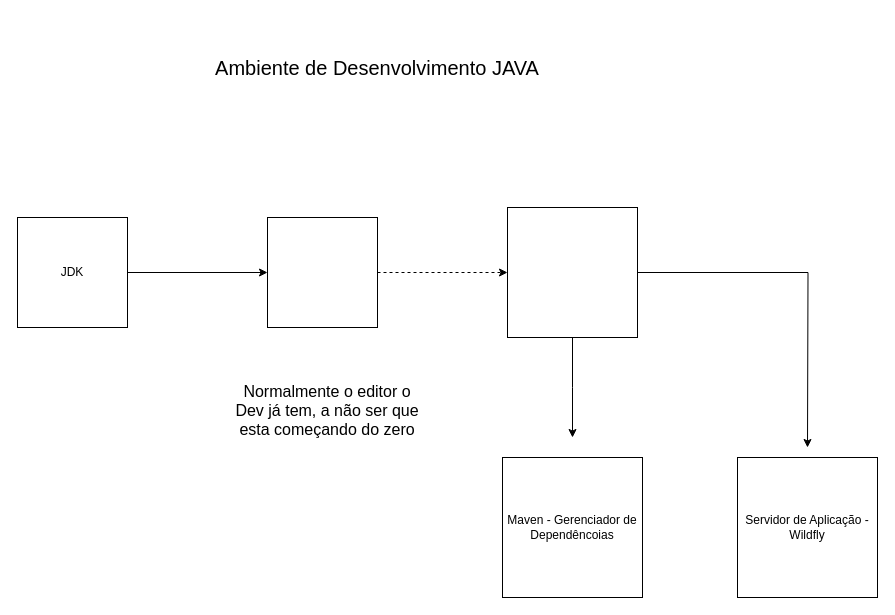
Image size: 895x615. Some labels were removed from this diagram. Each missing label, with the centre of its shape:
"Editor de Texto (IDE) - Vscode" goes at point 322,272.
"Extensões - Java Extension Pack" goes at point 572,272.
